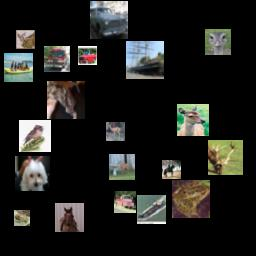automobile: (90, 1, 128, 39), (78, 46, 97, 65)
bird: (19, 120, 51, 152), (205, 29, 231, 55)
cat: (47, 81, 85, 119)
deer: (208, 140, 243, 175), (177, 104, 209, 136), (109, 154, 135, 180), (106, 122, 125, 141), (16, 30, 35, 49)
dog: (15, 156, 50, 191)
frog: (172, 180, 210, 218), (14, 210, 30, 226)
ship: (126, 41, 164, 79), (4, 53, 33, 82), (137, 195, 166, 224)
truck: (44, 46, 70, 72), (114, 191, 136, 213)
